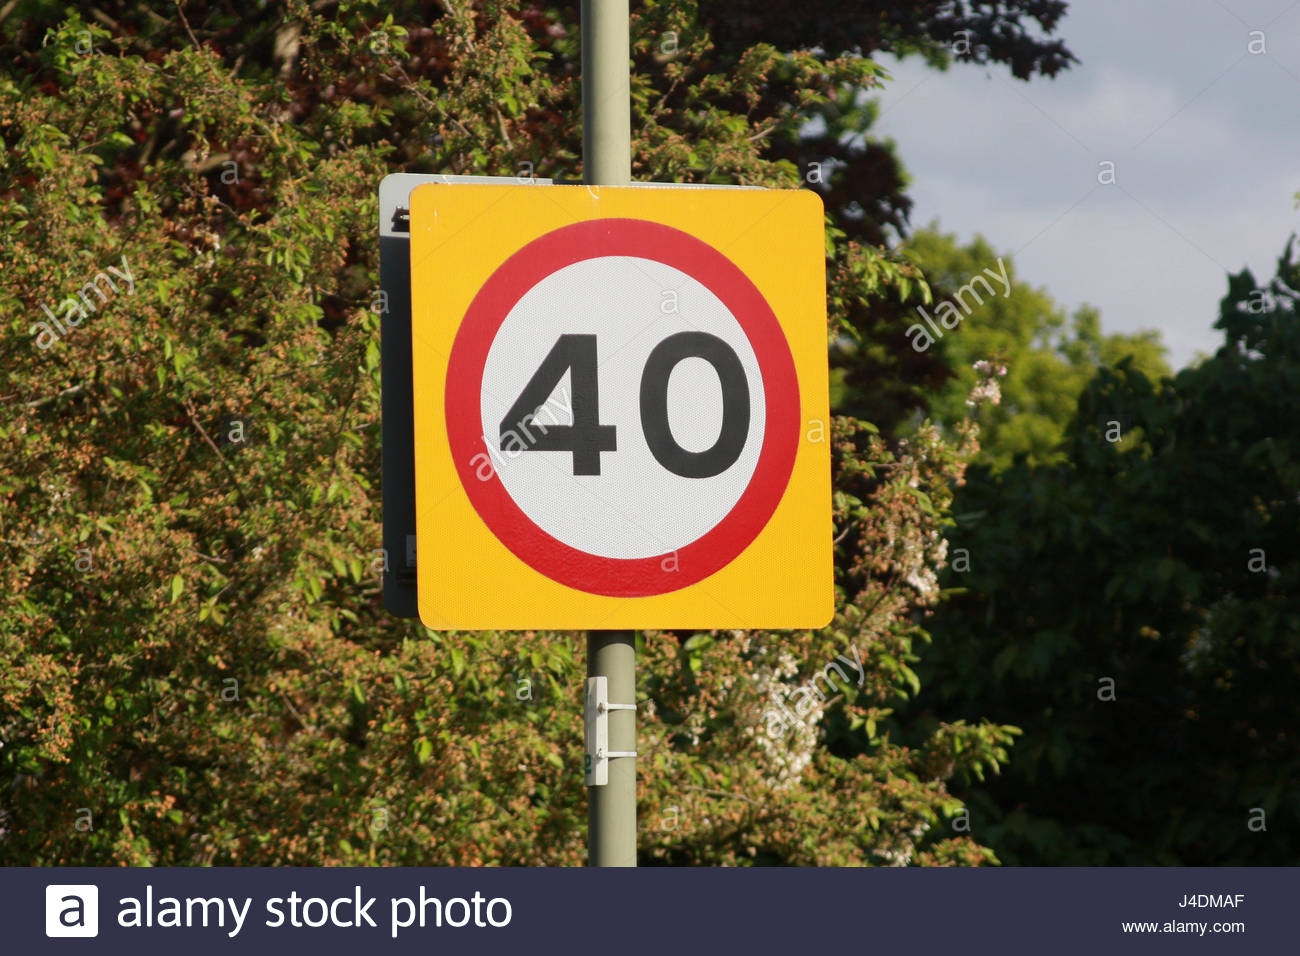Speed_limit_40km: (443, 216, 806, 598)
